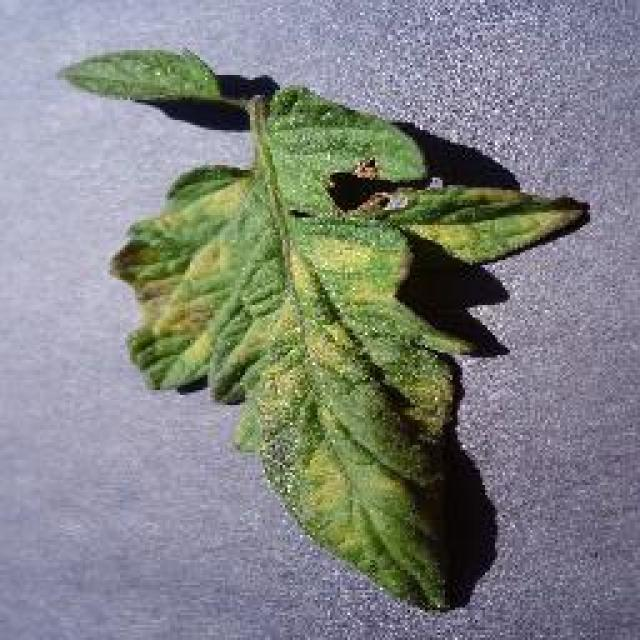leaf mold: (65, 41, 592, 610)
